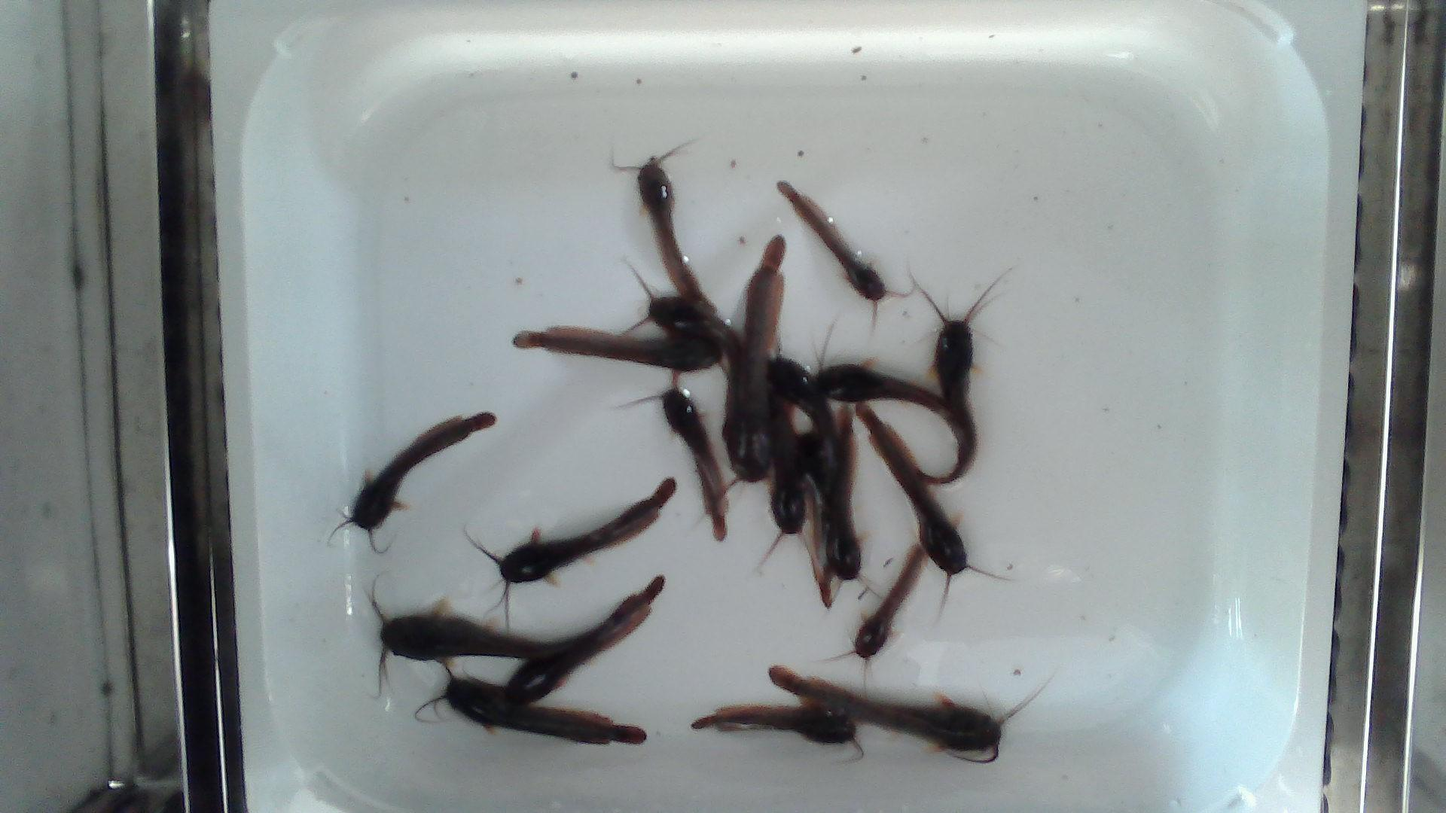lele: (857, 401, 1018, 613), (768, 663, 1030, 767), (480, 477, 678, 613), (330, 410, 496, 553), (810, 324, 966, 469), (493, 576, 666, 704), (624, 260, 743, 437), (916, 272, 1011, 482), (776, 179, 907, 327), (621, 370, 730, 542), (610, 143, 718, 314), (370, 599, 604, 675), (412, 678, 647, 748), (726, 235, 788, 490), (508, 325, 723, 372), (769, 338, 839, 481), (692, 703, 867, 756), (853, 540, 928, 657), (765, 387, 811, 564), (792, 427, 834, 608), (829, 405, 861, 581)
